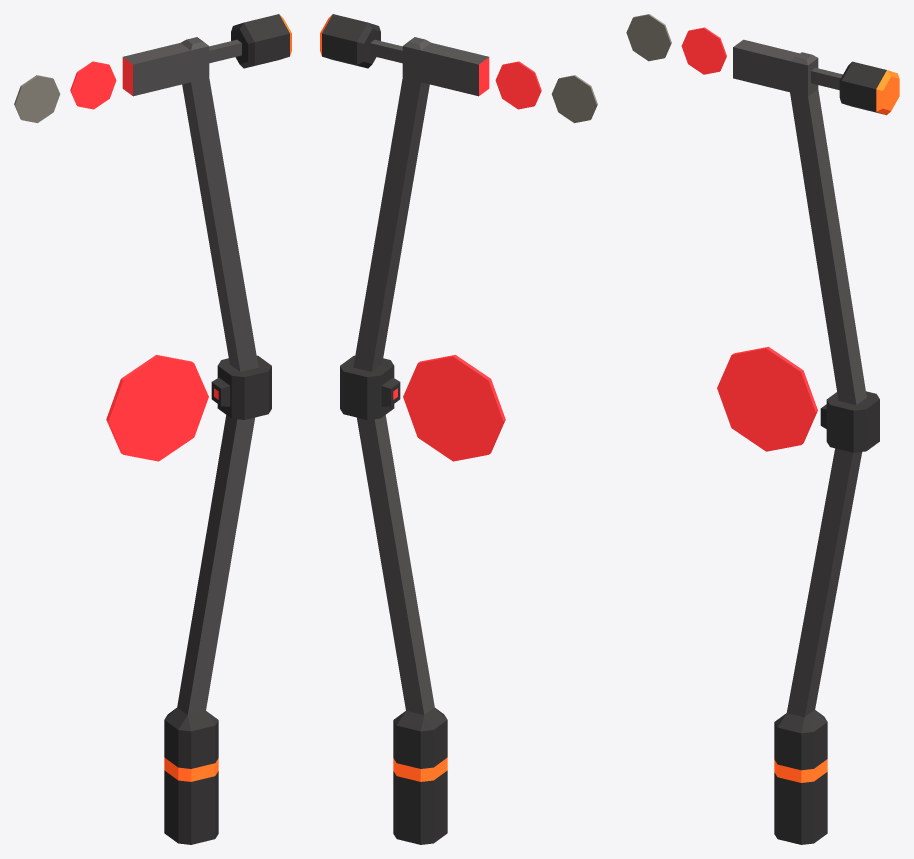
The model's file is scifi_scifi-traffic-lights-stop.fbx.
3 views of the same model, side by side, from view 1: azimuth 30°, elevation 25°; view 2: azimuth 150°, elevation 25°; view 3: azimuth 330°, elevation 25° (orthographic).
Parts seen in each view (by area): view 1: scifi_scifi_traffic_lights_stop; view 2: scifi_scifi_traffic_lights_stop; view 3: scifi_scifi_traffic_lights_stop.
Part boxes in pixels (bbox=[...]): scifi_scifi_traffic_lights_stop: bbox=[14, 14, 291, 844]; scifi_scifi_traffic_lights_stop: bbox=[320, 14, 597, 844]; scifi_scifi_traffic_lights_stop: bbox=[626, 14, 899, 844].
Bounding box in the file's own units: 70.53 × 200 × 10.63.
